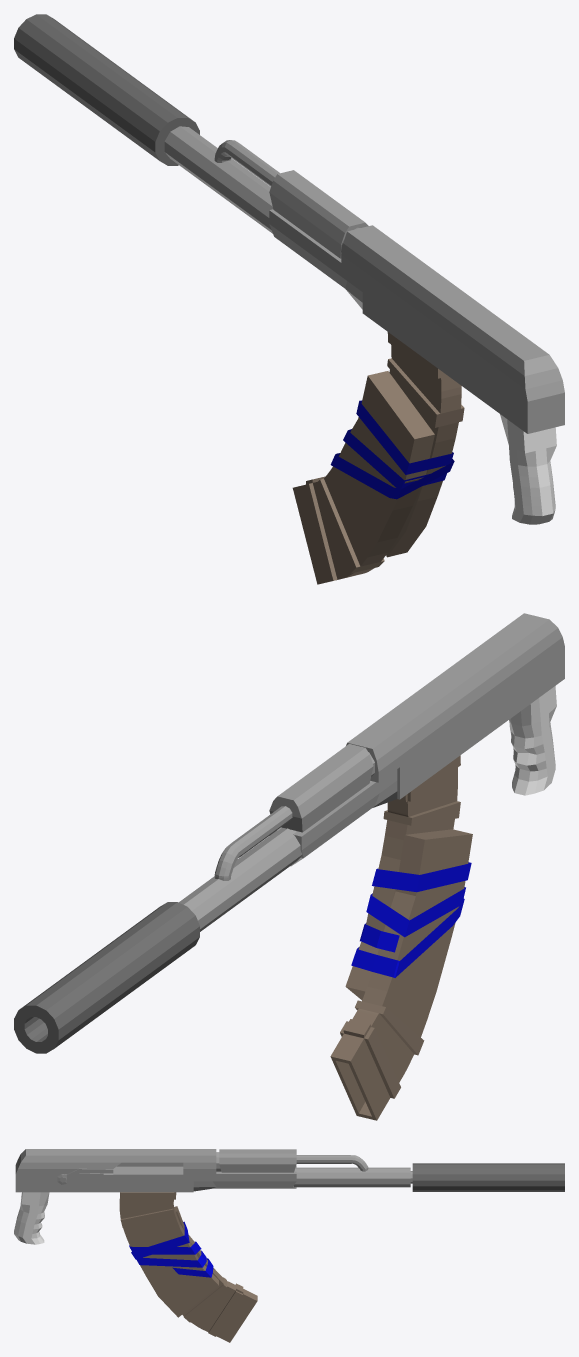
The model's file is АКАtest.fbx.
3 views of the same model, one above another, from view 1: azimuth 30°, elevation 25°; view 2: azimuth 150°, elevation 25°; view 3: azimuth 270°, elevation 25° (orthographic). The views are drawn at different scales.
Parts seen in each view (by area): view 1: Куб.001; view 2: Куб.001; view 3: Куб.001.
Boxes of the visible parts, bbox=[...] form: Куб.001: bbox=[14, 14, 564, 584]; Куб.001: bbox=[14, 613, 564, 1120]; Куб.001: bbox=[14, 1149, 564, 1342].
Size of the model in its own units: 153 by 858 by 2208.
